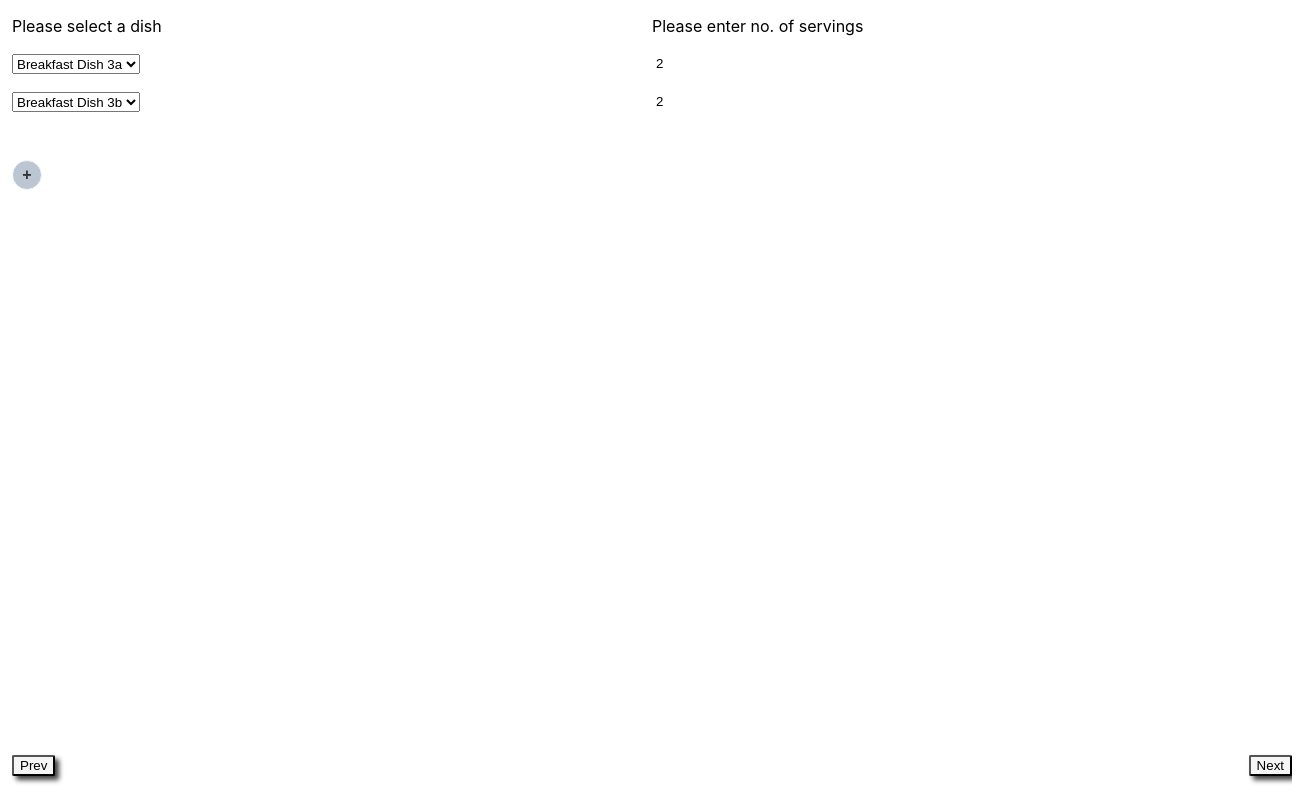
Test: going to next page › should not have less total dishes than people
Click the button "Next": click(1270, 766) x1=1249 y1=755 x2=1292 y2=776
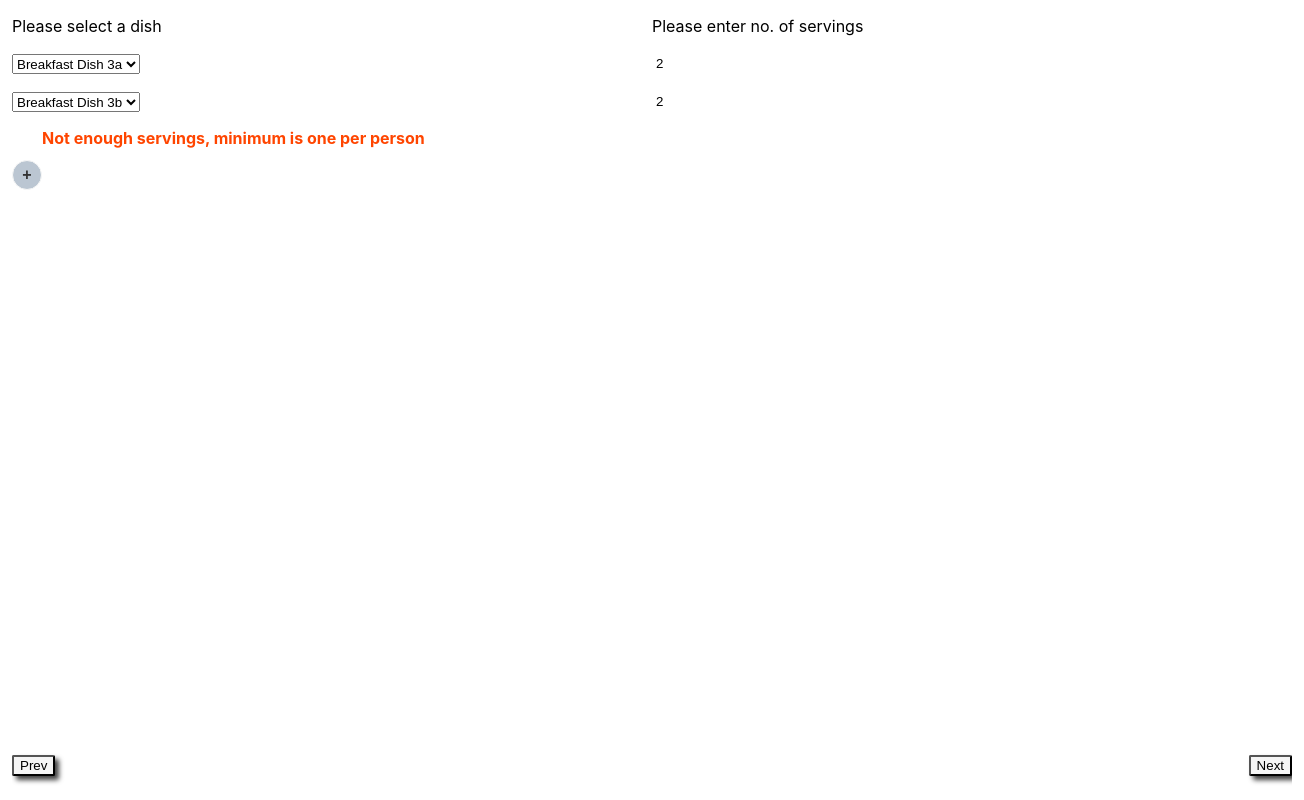
Expected: the text "Not enough servings, minimum is one per person" is shown, x1=42 y1=128 x2=425 y2=148
